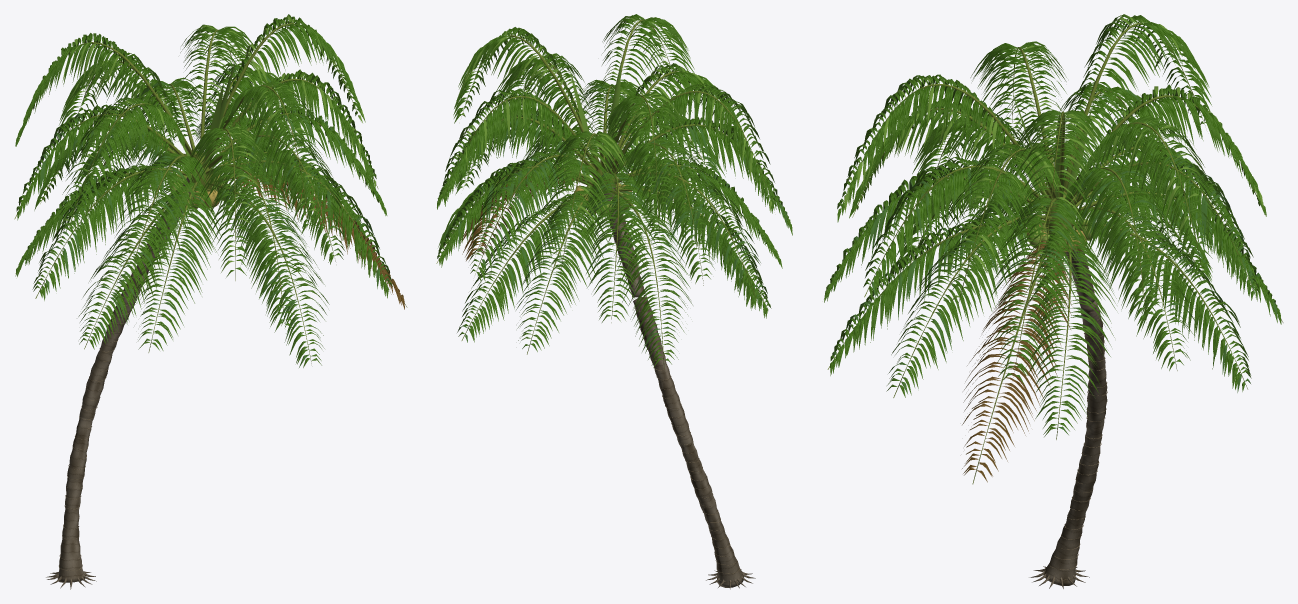
Rendered from KL_LS_Coconut_Leaning_B_LOD1.gltf.
3 renders of one model, left to right at view 1: azimuth 30°, elevation 25°; view 2: azimuth 150°, elevation 25°; view 3: azimuth 270°, elevation 25°, orthographic. The views are drawn at different scales.
Parts seen in each view (by area): view 1: TF3_KL_LS_Coconut_Leaning_B_LOD1; view 2: TF3_KL_LS_Coconut_Leaning_B_LOD1; view 3: TF3_KL_LS_Coconut_Leaning_B_LOD1.
Boxes of the visible parts, x1,y1,x2,y2 form: TF3_KL_LS_Coconut_Leaning_B_LOD1: (14, 14, 407, 589); TF3_KL_LS_Coconut_Leaning_B_LOD1: (436, 14, 792, 589); TF3_KL_LS_Coconut_Leaning_B_LOD1: (824, 14, 1283, 588).
Size of the model in its own units: 8.03 by 11.67 by 8.22.
Materials: 9 (3 with a texture image).
